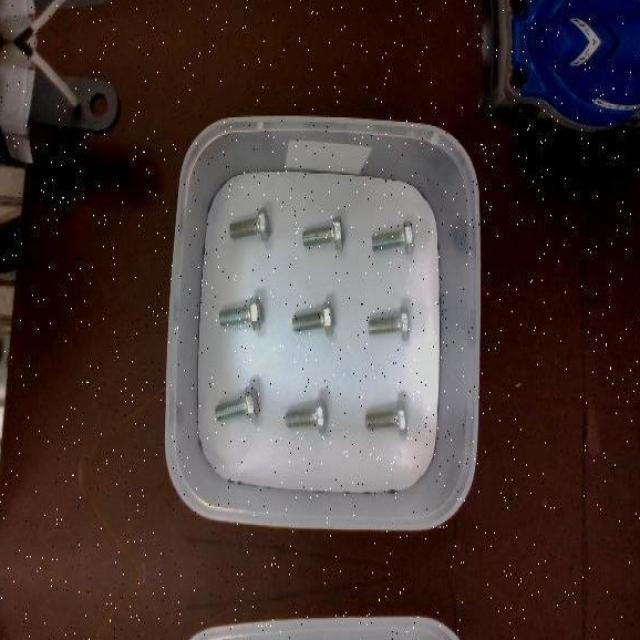screw: (215, 383, 259, 421), (284, 398, 328, 434), (368, 304, 409, 342), (220, 294, 262, 330), (292, 301, 336, 335), (301, 215, 343, 250), (366, 399, 408, 434), (371, 220, 413, 254), (229, 207, 269, 241)
